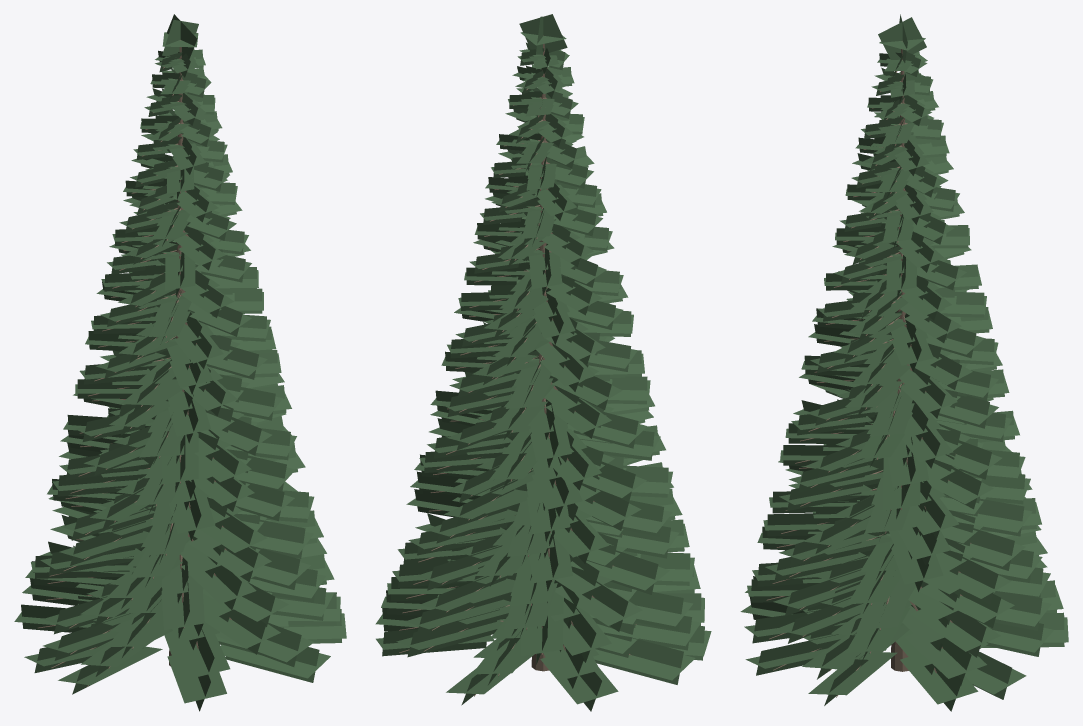
File: SM_Tree_Spruce.fbx
3 renders of one model, left to right at view 1: azimuth 30°, elevation 25°; view 2: azimuth 150°, elevation 25°; view 3: azimuth 270°, elevation 25°, orthographic.
Parts seen in each view (by area): view 1: SM_Tree_Spruce; view 2: SM_Tree_Spruce; view 3: SM_Tree_Spruce.
Boxes of the visible parts, x1=… form: SM_Tree_Spruce: x1=14, y1=14, x2=346, y2=711; SM_Tree_Spruce: x1=375, y1=14, x2=711, y2=711; SM_Tree_Spruce: x1=740, y1=14, x2=1068, y2=711.
Bounding box in the file's own units: 7.75 × 7.78 × 16.89.
